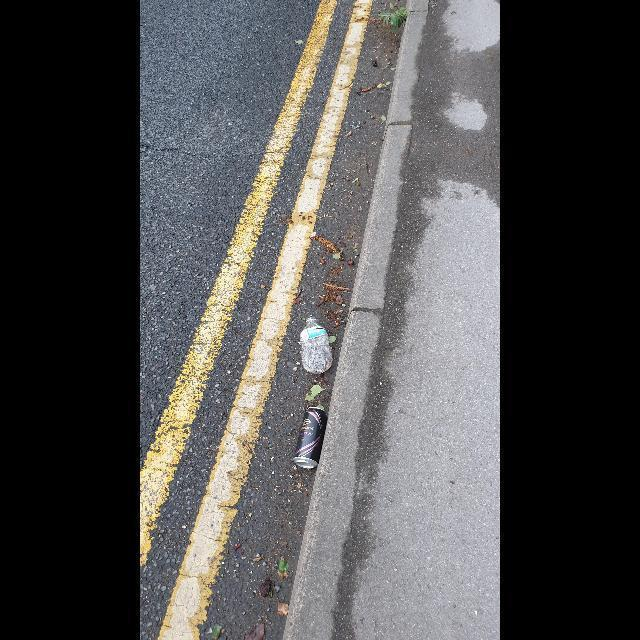Plastic: (302, 317, 332, 373)
